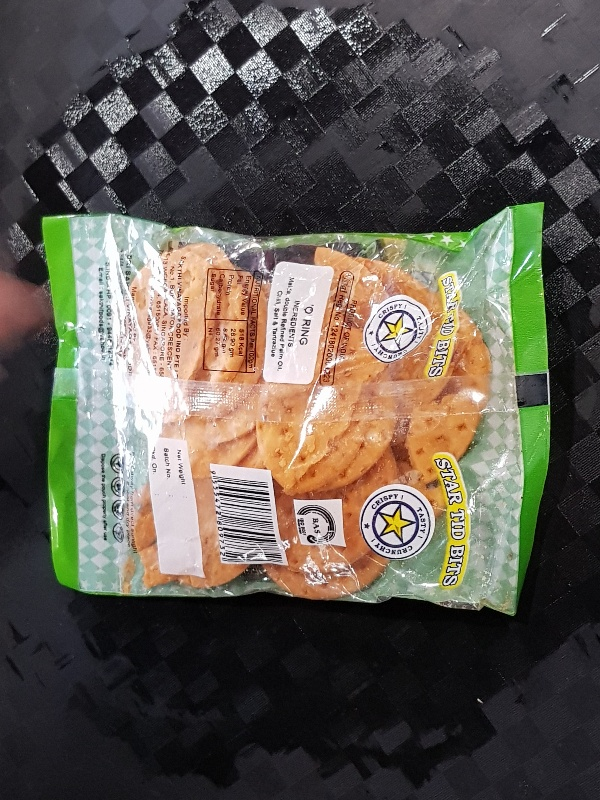Star Tidbits 'O' Ring: (39, 199, 552, 627)
